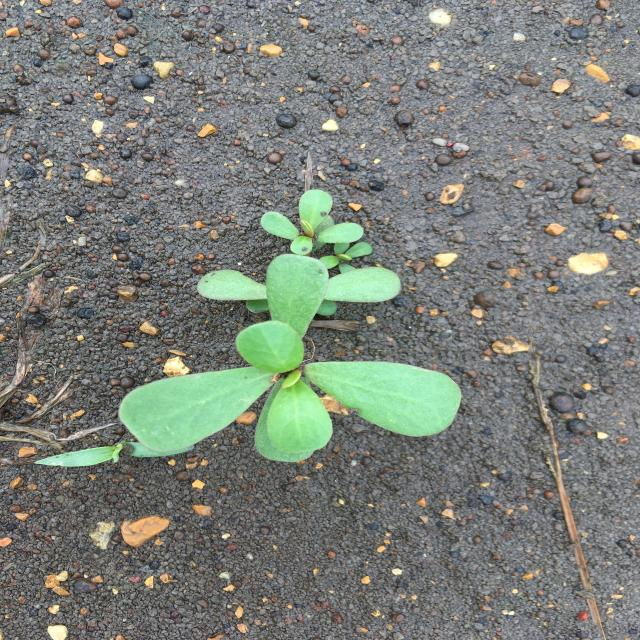Purslane: (119, 189, 462, 462)
